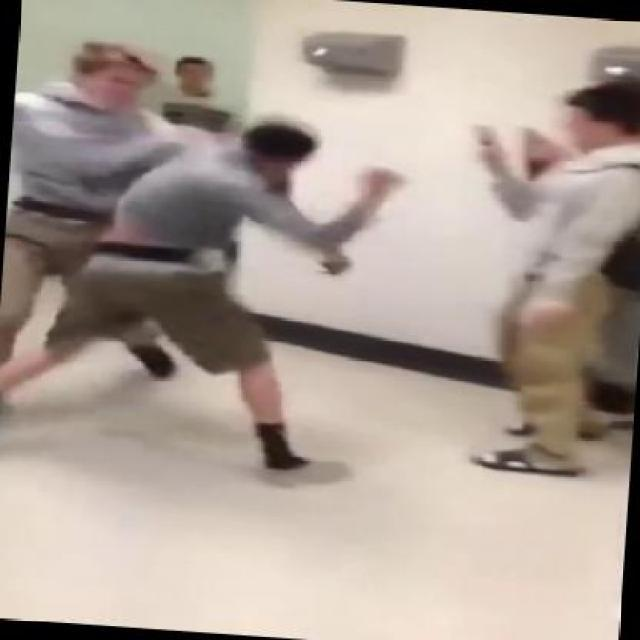fight: (0, 33, 412, 478)
non-fight: (426, 68, 639, 486)
